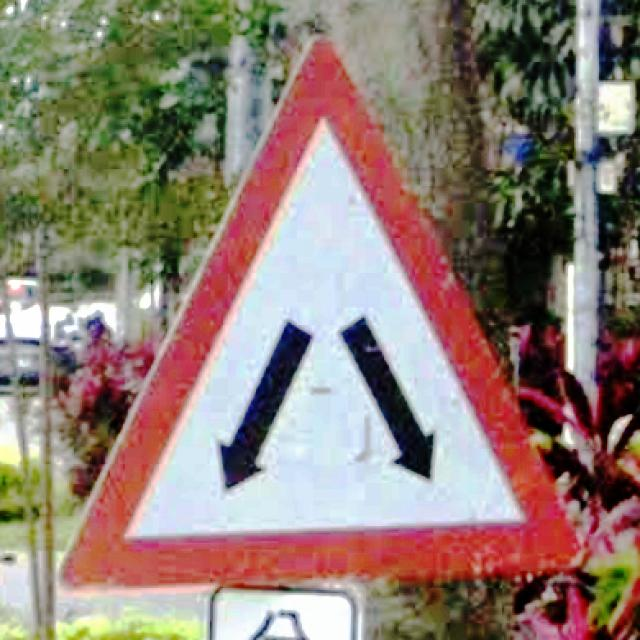diverge: (59, 39, 586, 593)
